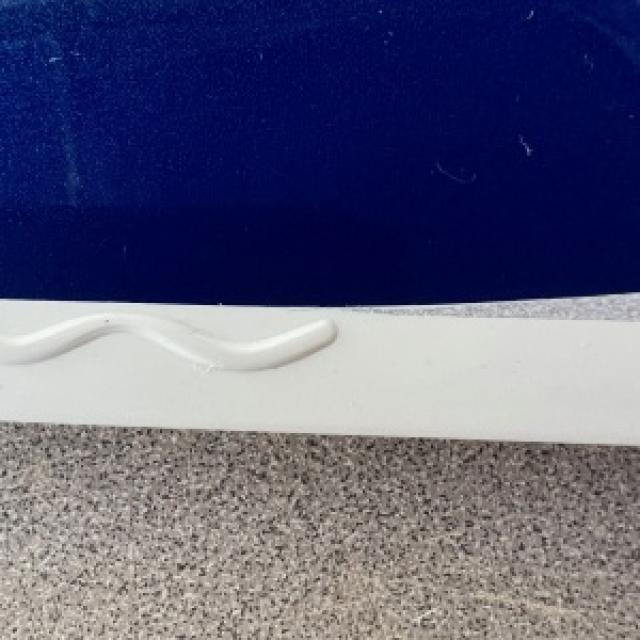healthy: (0, 294, 638, 442)
